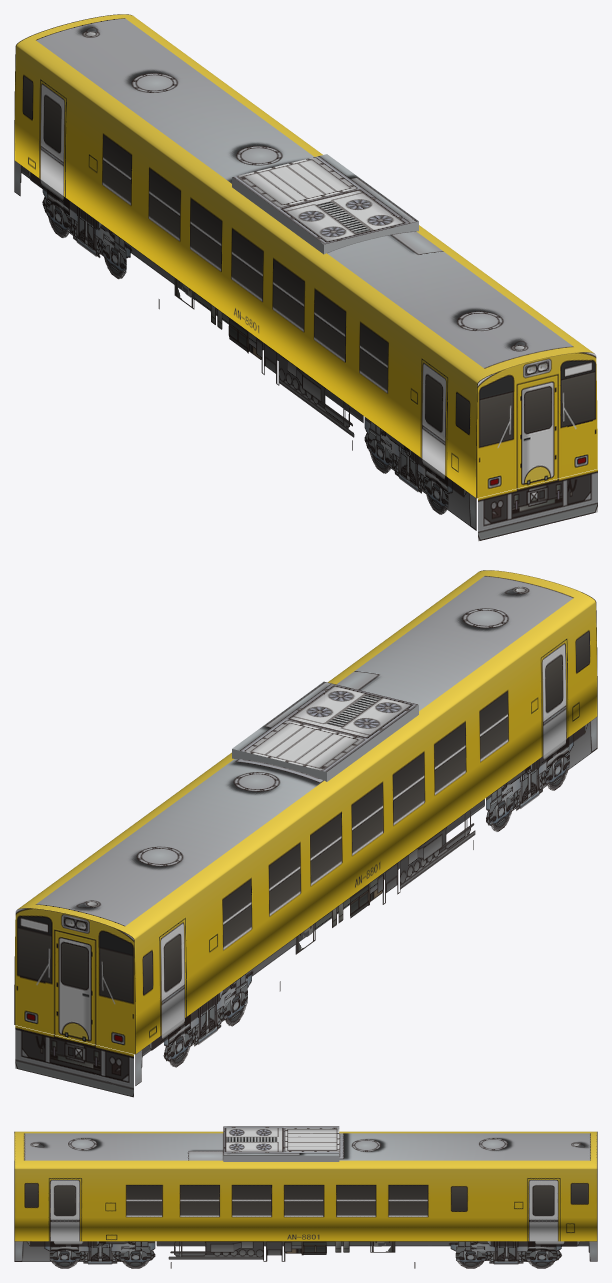
File: car1.glb
3 views of the same model, one above another, from view 1: azimuth 30°, elevation 25°; view 2: azimuth 150°, elevation 25°; view 3: azimuth 270°, elevation 25° (orthographic). The views are drawn at different scales.
Visible parts, largest first — view 1: akitanaikiku-an8800-car1; view 2: akitanaikiku-an8800-car1; view 3: akitanaikiku-an8800-car1.
Part boxes in pixels (x1,y1,x2,y2): akitanaikiku-an8800-car1: (14, 14, 597, 541); akitanaikiku-an8800-car1: (14, 570, 597, 1097); akitanaikiku-an8800-car1: (14, 1126, 597, 1268).
Bounding box in the file's own units: 2.8 × 3.81 × 18.53.
11 materials, 11 textured.
